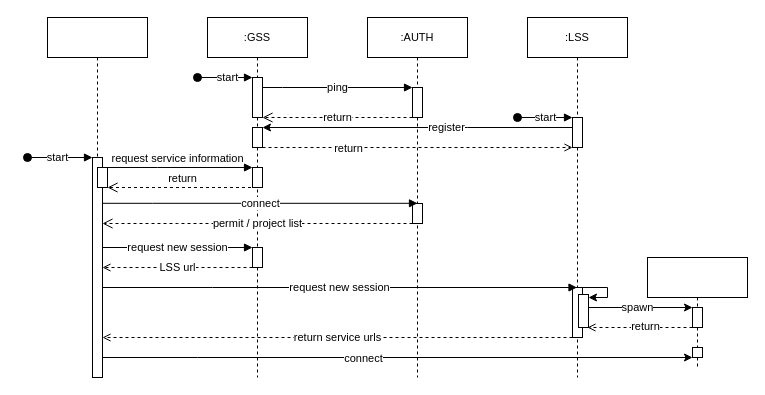
Image size: 765x395. Some labels were removed from this diagram. The box of each missing label's shape, as (x1, y1, x2, y2) in pixels:
:ComputeServices: (646, 256, 748, 368)
:UIFrontend: (46, 16, 148, 378)
